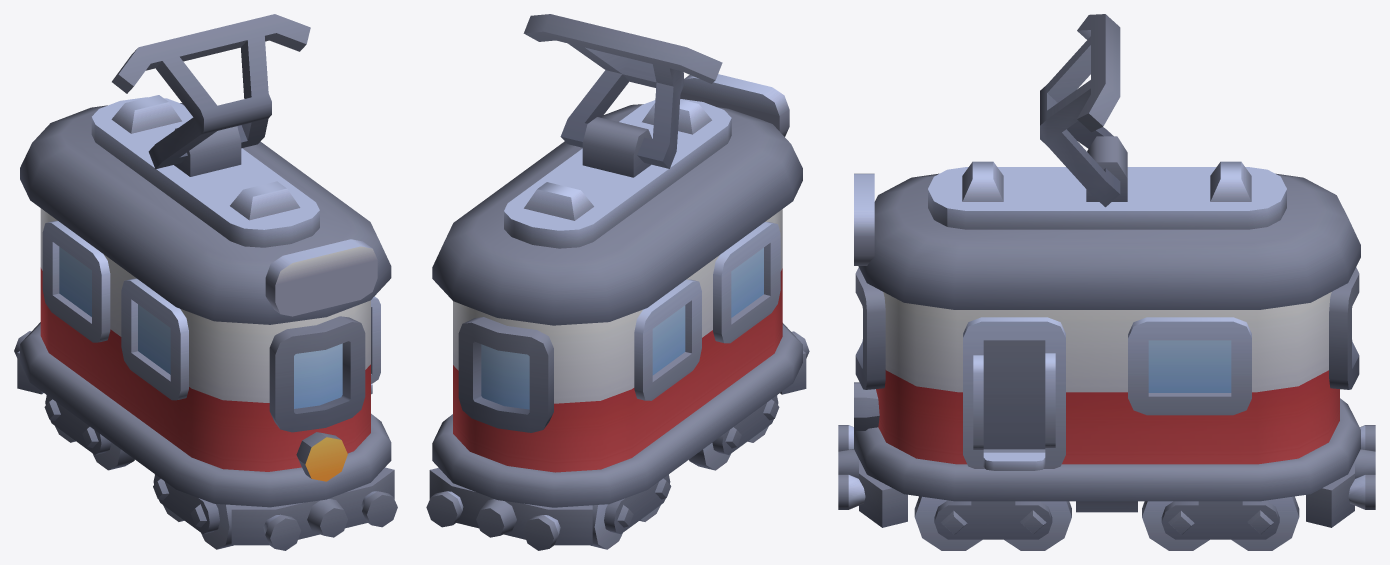
Rendered from kenney-train-train-tram-round.glb.
3 views of the same model, side by side, from view 1: azimuth 30°, elevation 25°; view 2: azimuth 150°, elevation 25°; view 3: azimuth 270°, elevation 25° (orthographic). The views are drawn at different scales.
Parts seen in each view (by area): view 1: train-tram-round; view 2: train-tram-round; view 3: train-tram-round.
Part boxes in pixels (x1=…): train-tram-round: x1=14, y1=14, x2=397, y2=550; train-tram-round: x1=426, y1=14, x2=809, y2=550; train-tram-round: x1=838, y1=14, x2=1375, y2=550.
Bounding box in the file's own units: 1.25 × 2.49 × 2.6.
Materials: 1 (1 with a texture image).
